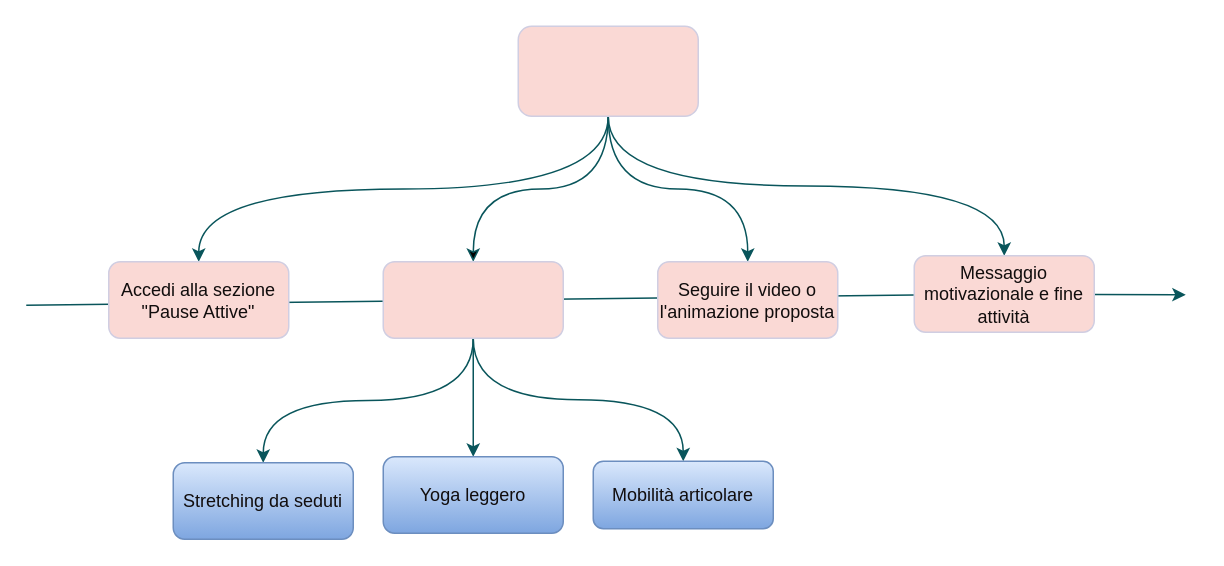
Image size: 1224x566. Some labels were removed from this diagram. Each missing label, with the box of its shape:
Pause attive: (517, 25, 698, 116)
Scegliere l'attività: (382, 260, 563, 338)
